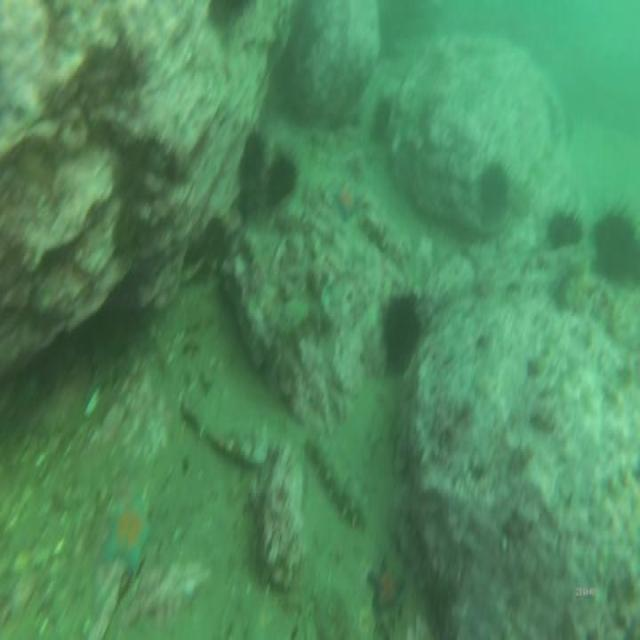echinus: (377, 283, 427, 379), (592, 196, 640, 286), (474, 153, 512, 220), (544, 196, 586, 251), (267, 142, 302, 201), (240, 125, 268, 183)
holothurian: (308, 428, 368, 528)
starfish: (100, 493, 156, 578), (367, 553, 409, 620), (330, 172, 362, 228)
